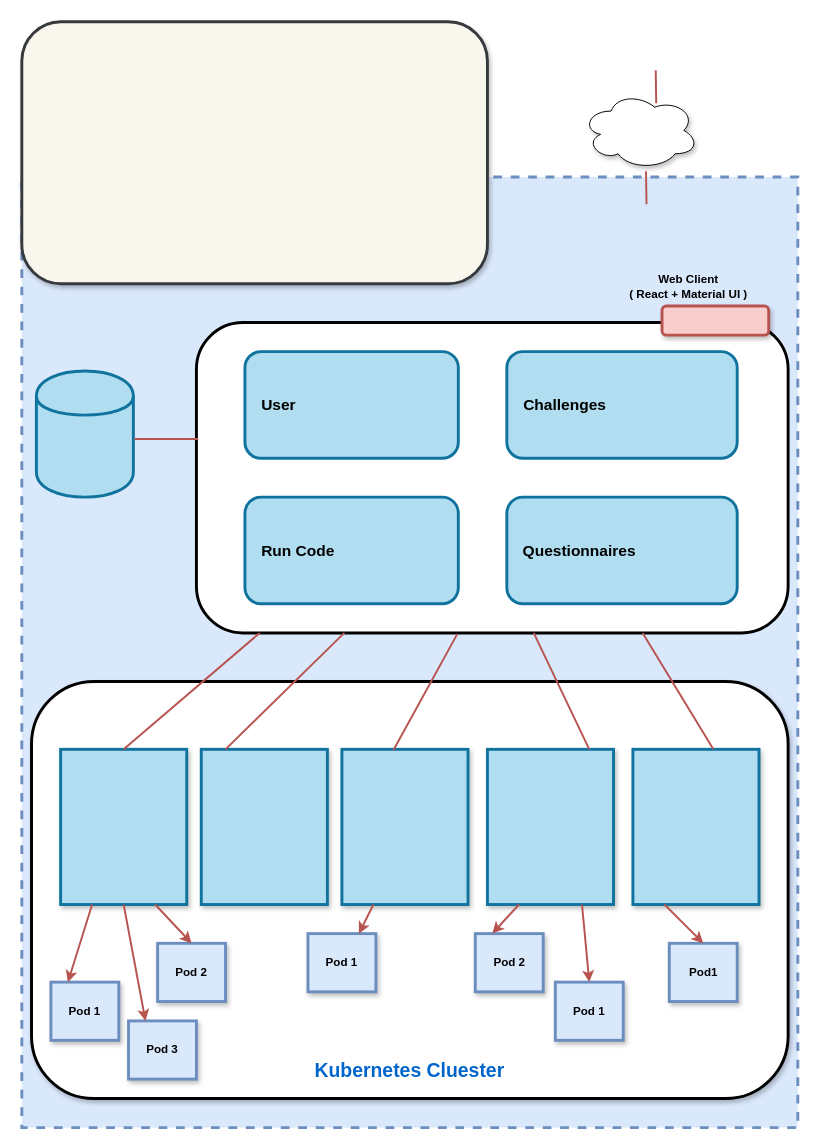
Some shapes in this 816 by 1146 pixel diagram are drawn without their labels. Each missing label, with the centre of its shape:
"Cloud Storage" goes at [84,433].
"internet" goes at [640,131].
"SERVICES" goes at [716,321].
